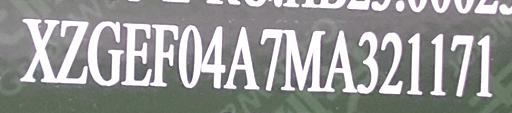letter: (282, 29, 324, 92), (86, 19, 124, 88), (21, 17, 59, 84), (224, 24, 260, 93), (324, 29, 358, 92), (58, 18, 88, 85), (122, 20, 152, 87), (152, 22, 178, 89), (200, 23, 226, 90), (178, 23, 202, 90), (450, 31, 474, 98), (259, 27, 283, 92), (380, 31, 404, 94), (356, 31, 380, 92), (476, 33, 496, 100), (406, 31, 426, 96), (428, 32, 448, 97)
